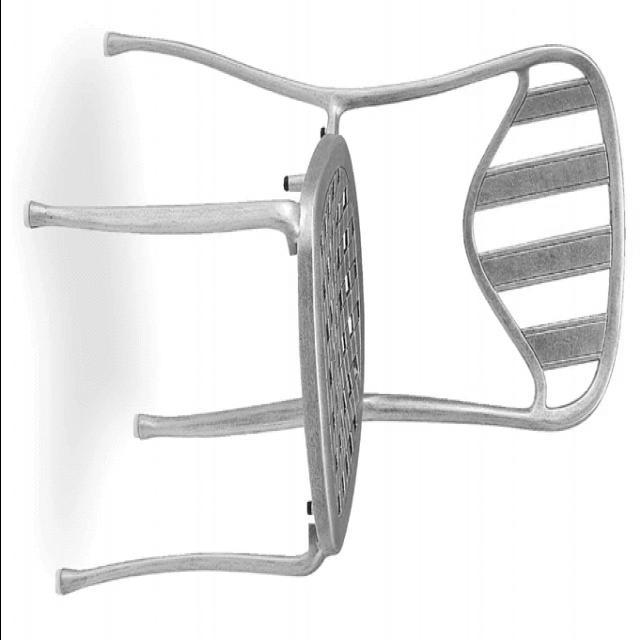chair: (27, 32, 623, 595)
